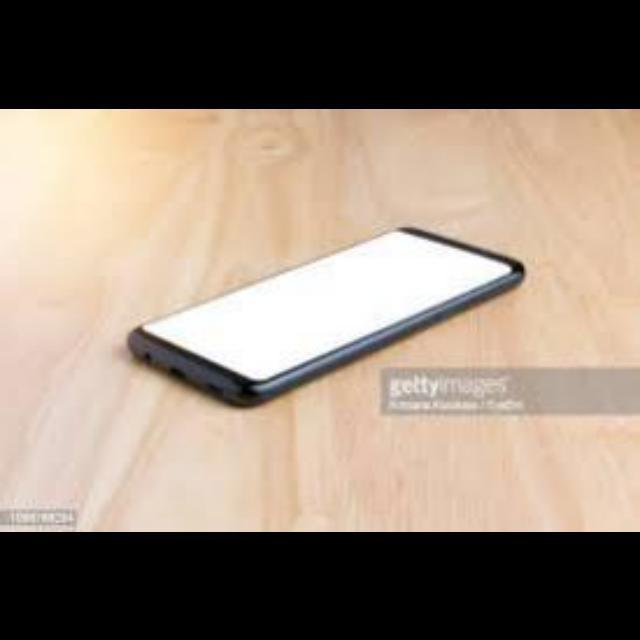phone: (90, 177, 572, 429)
